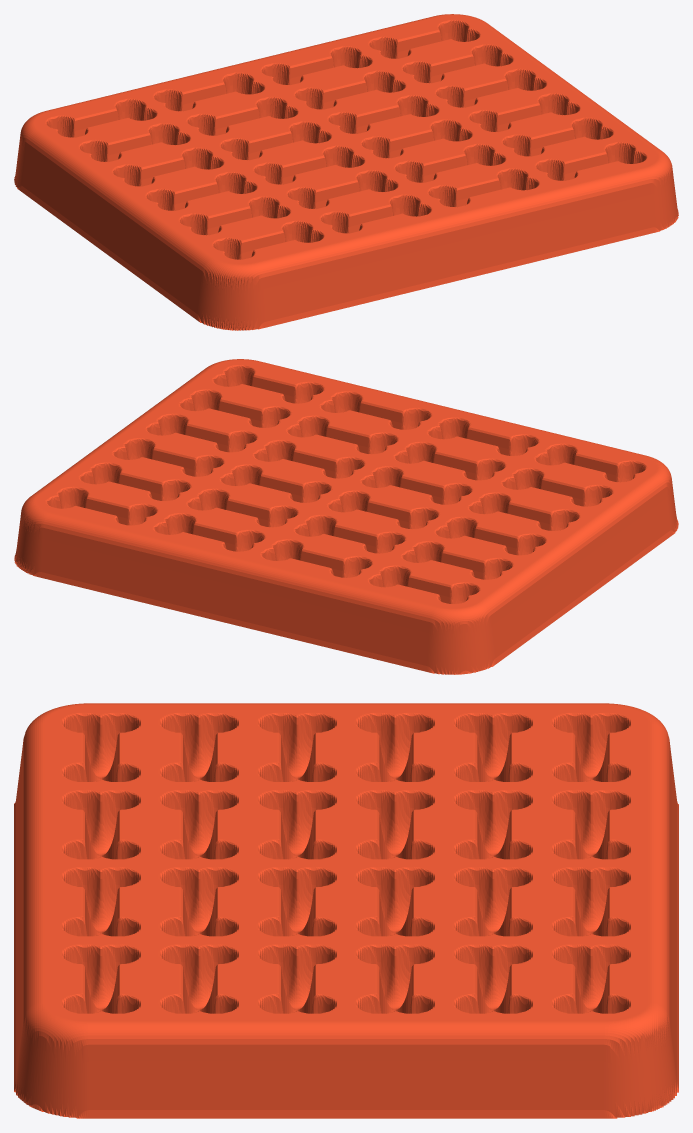
The model's file is mold.glb.
3 renders of one model, top to bottom at view 1: azimuth 30°, elevation 25°; view 2: azimuth 150°, elevation 25°; view 3: azimuth 270°, elevation 25°, orthographic. The views are drawn at different scales.
Visible parts, largest first — view 1: geometry_0; view 2: geometry_0; view 3: geometry_0.
Part boxes in pixels (x1=…): geometry_0: x1=14, y1=14, x2=678, y2=330; geometry_0: x1=14, y1=359, x2=678, y2=674; geometry_0: x1=14, y1=703, x2=678, y2=1118.
Bounding box in the file's own units: 0.098 × 0.0113 × 0.0807.
